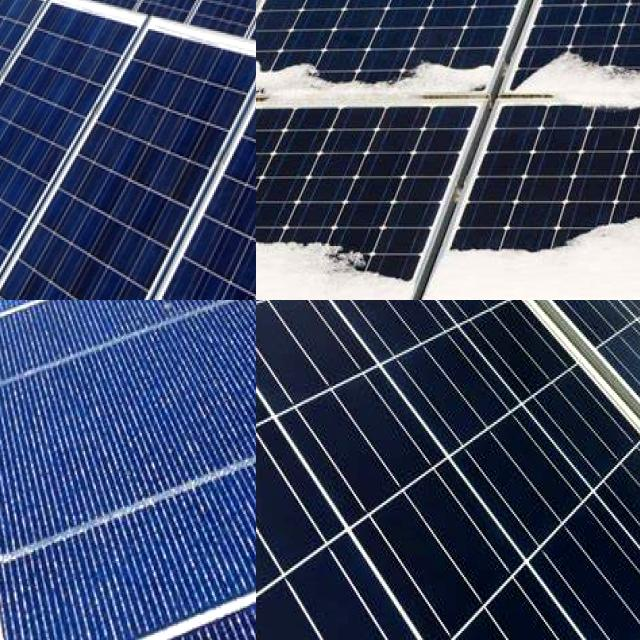crack: (256, 300, 640, 640), (336, 300, 640, 587), (0, 300, 256, 640), (0, 55, 256, 300), (0, 109, 256, 300)
panel: (424, 208, 640, 297), (519, 24, 640, 132), (256, 224, 421, 300), (360, 19, 492, 109), (256, 30, 347, 116), (256, 38, 338, 114), (256, 167, 313, 237), (256, 121, 295, 178)
